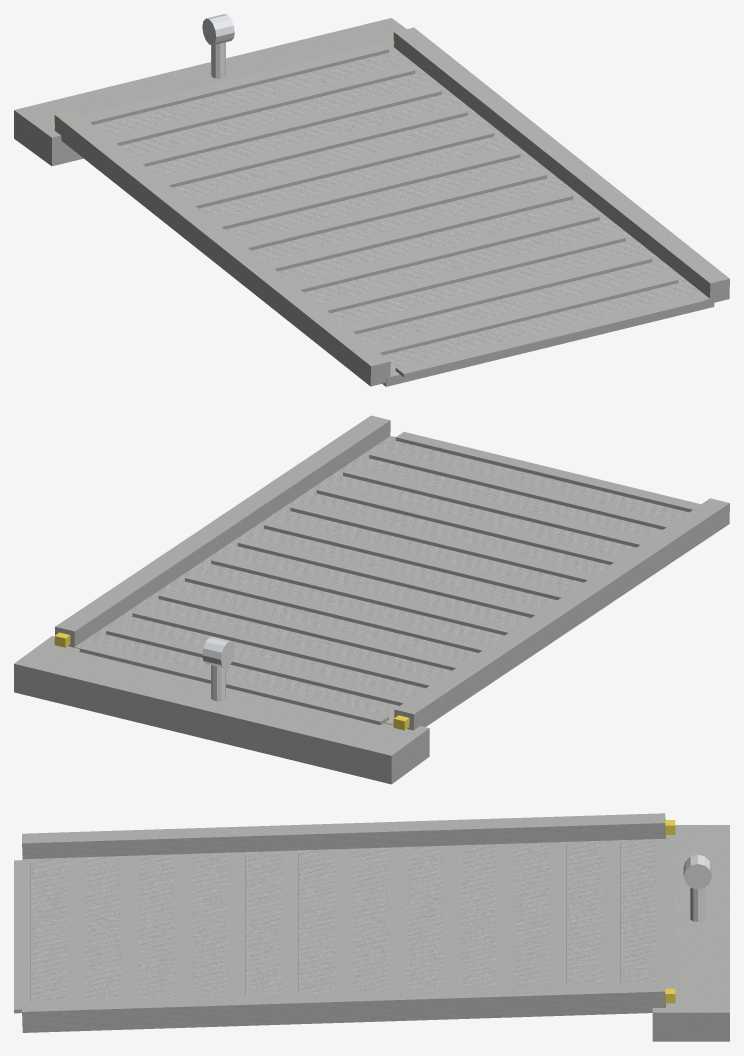
File: fish-market-and-trawler-quay-fish-market-and-trawler-q-33f63b36__37270.glb
3 views of the same model, one above another, from view 1: azimuth 30°, elevation 25°; view 2: azimuth 150°, elevation 25°; view 3: azimuth 270°, elevation 25° (orthographic).
Parts seen in each view (by area): view 1: fish-market-and-trawler-quay-slipway; view 2: fish-market-and-trawler-quay-slipway; view 3: fish-market-and-trawler-quay-slipway.
Part boxes in pixels (box(x1,y1,x2,y2)): fish-market-and-trawler-quay-slipway: box(14, 14, 729, 386); fish-market-and-trawler-quay-slipway: box(14, 415, 729, 784); fish-market-and-trawler-quay-slipway: box(14, 813, 729, 1041).
Size of the model in its own units: 6.9 by 1.52 by 11.13.
Materials: 3 (1 with a texture image).
